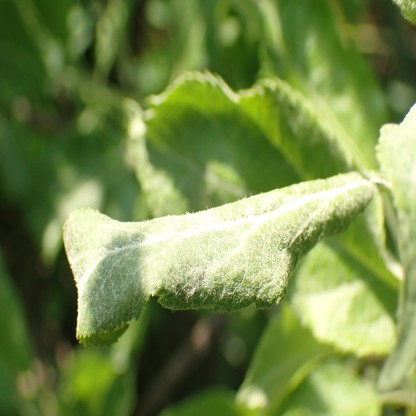powder: (63, 173, 372, 337)
